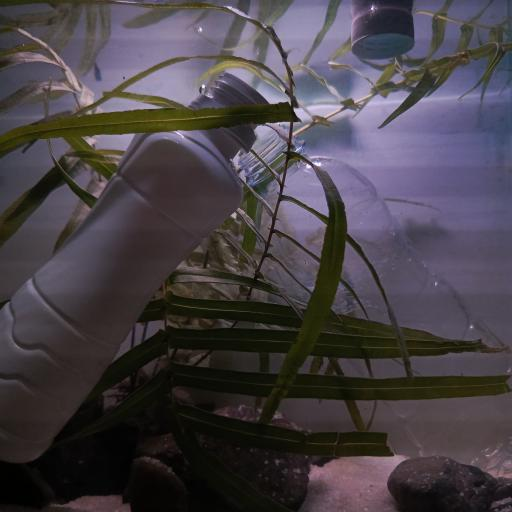bottle_cap: (349, 12, 416, 60)
plastic_bottle: (2, 72, 274, 465), (238, 126, 512, 472)
